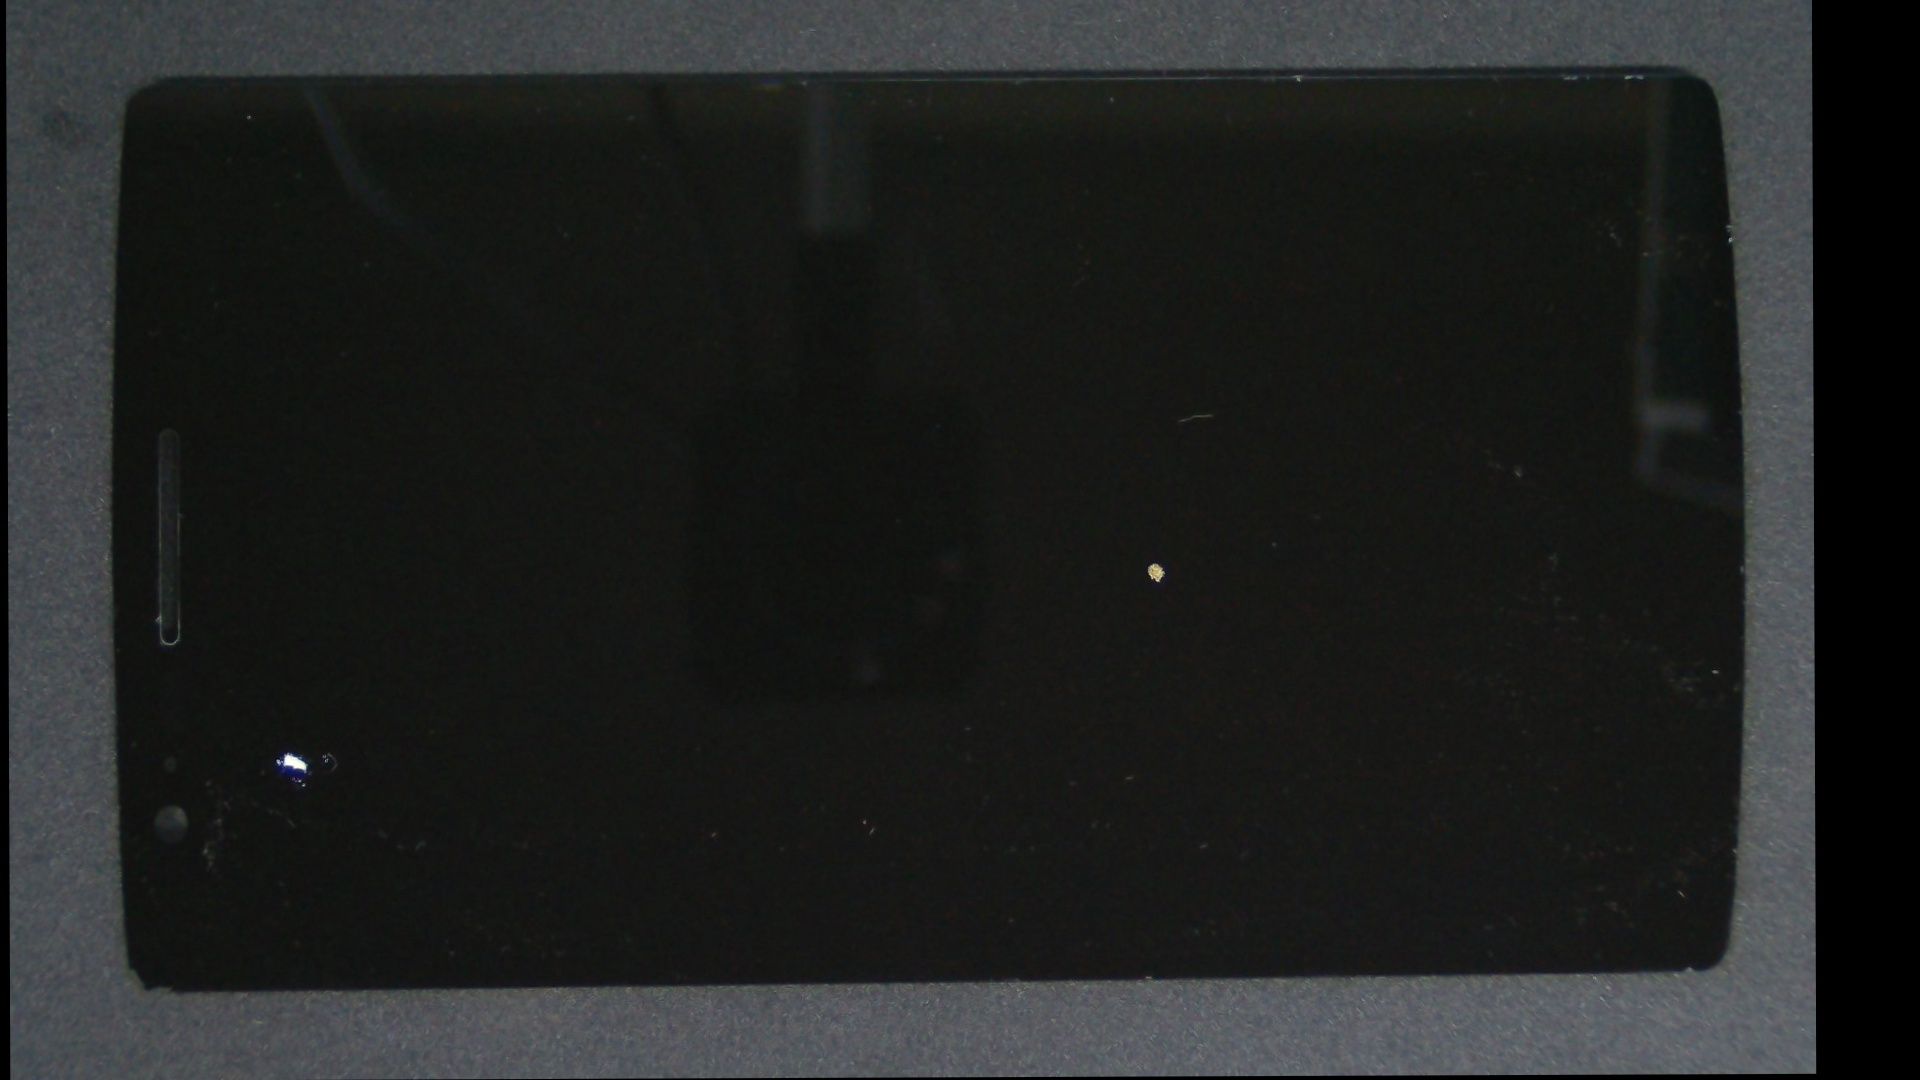oil: (583, 249, 1734, 872), (144, 347, 421, 1080)
